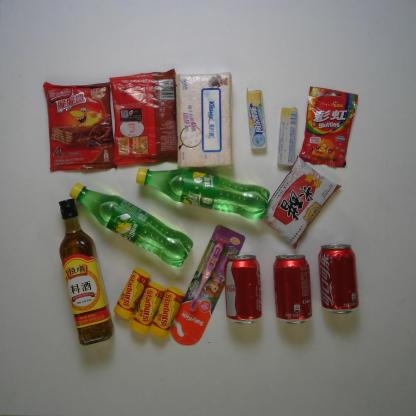Candy: (299, 84, 358, 168), (115, 268, 150, 320), (150, 286, 185, 338), (127, 283, 164, 331), (277, 107, 298, 168), (247, 88, 267, 149)
Dessert: (42, 82, 121, 173), (106, 70, 180, 167)
Drink: (68, 182, 193, 267), (134, 163, 268, 220), (317, 242, 359, 315), (223, 252, 264, 326), (271, 252, 312, 325)
Personal Hygiene: (171, 226, 246, 346)
Seasoner: (58, 198, 114, 347), (262, 152, 340, 250)
Tissue: (173, 70, 234, 168)
